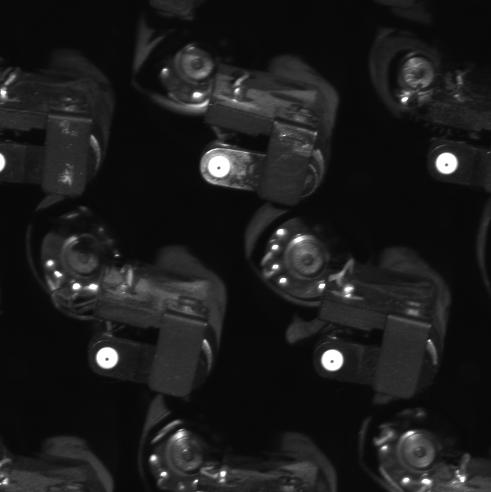fiber: (317, 344, 352, 377), (90, 342, 126, 374), (429, 149, 467, 179), (205, 150, 234, 185)
